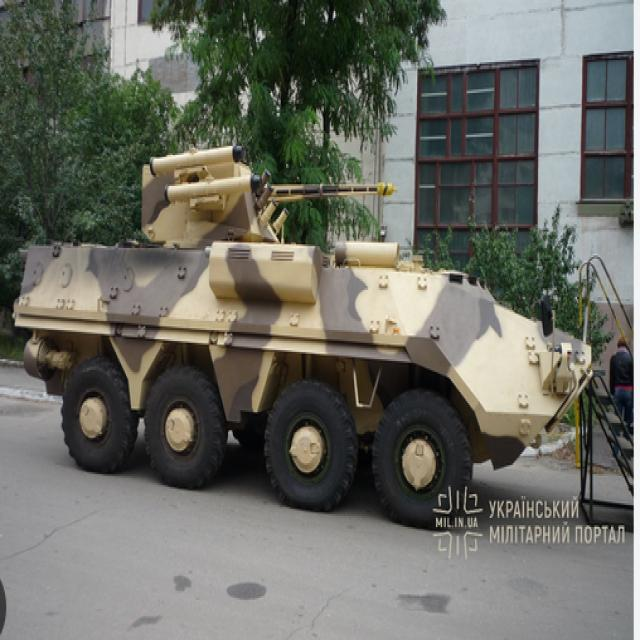MIL_APC: (12, 139, 603, 528)
